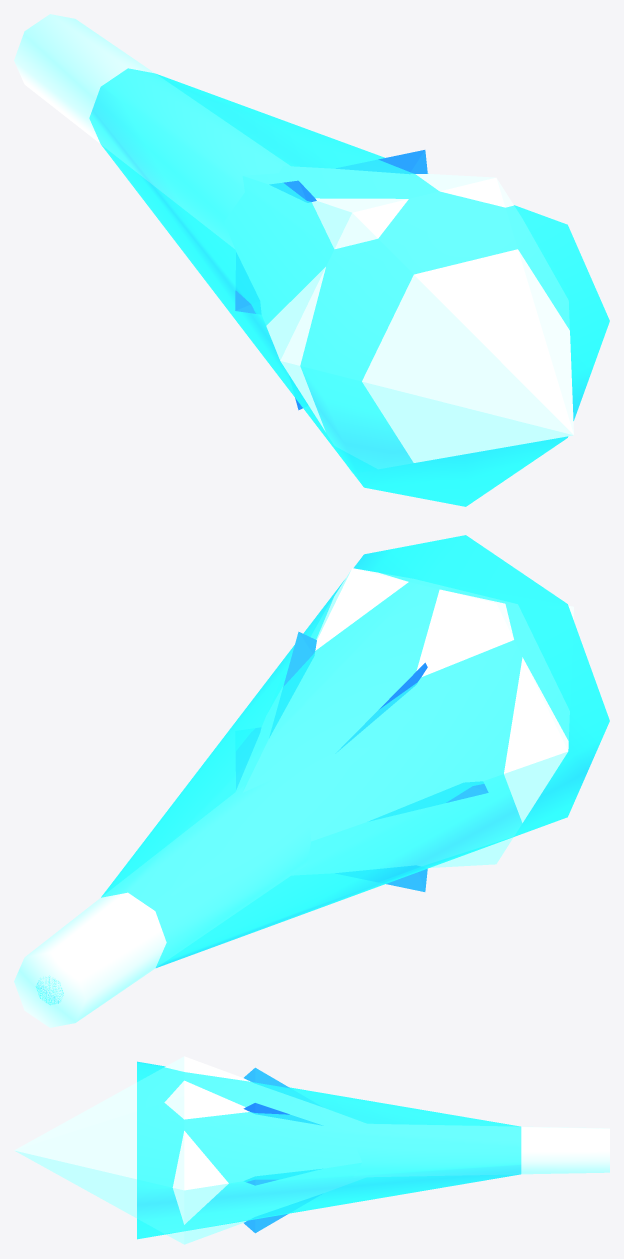
The model's file is fx_lance_f.glb.
3 renders of one model, top to bottom at view 1: azimuth 30°, elevation 25°; view 2: azimuth 150°, elevation 25°; view 3: azimuth 270°, elevation 25°, orthographic. The views are drawn at different scales.
Visible parts, largest first — view 1: fx_lance_f; view 2: fx_lance_f; view 3: fx_lance_f.
Part boxes in pixels (x1,y1,x2,y2): fx_lance_f: (14,14,609,506); fx_lance_f: (14,535,609,1027); fx_lance_f: (14,1056,609,1244).
Size of the model in its own units: 0.4 by 0.4 by 1.26.
